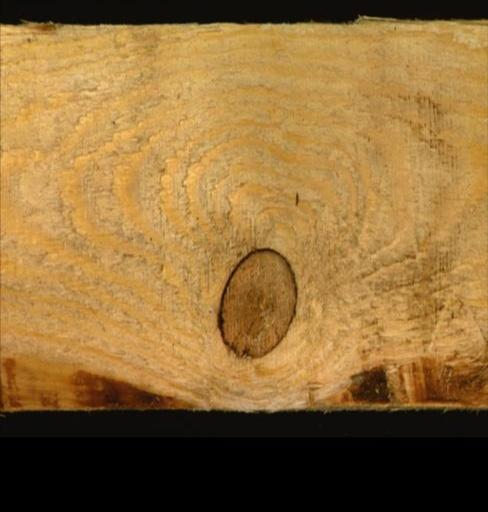dry_knot: (213, 245, 299, 360)
wave: (0, 354, 202, 412), (325, 348, 485, 410)
